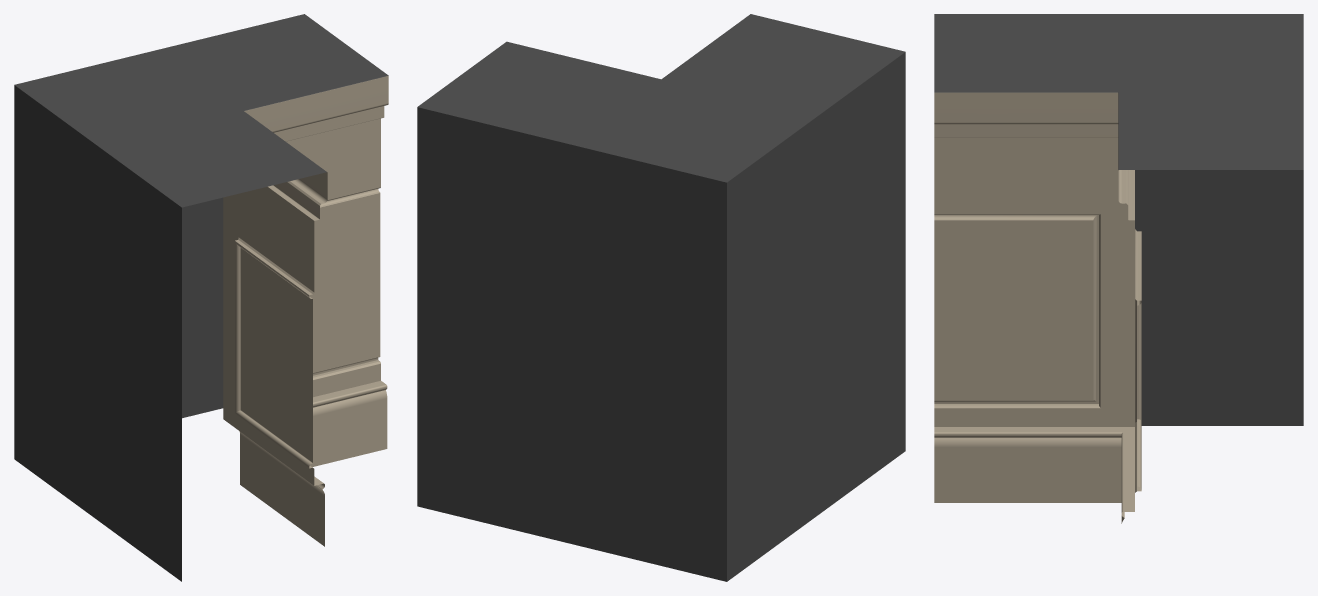
File: Wallset_02.1.02.fbx
The picture shows the model from 3 angles, left to right: view 1: azimuth 30°, elevation 25°; view 2: azimuth 150°, elevation 25°; view 3: azimuth 270°, elevation 25°; orthographic projection. The views are drawn at different scales.
Parts seen in each view (by area): view 1: polySurface13; view 2: polySurface13; view 3: polySurface13.
Part boxes in pixels (left/top/right/bottom): polySurface13: left=14, top=14, right=388, bottom=581; polySurface13: left=417, top=14, right=905, bottom=581; polySurface13: left=934, top=14, right=1303, bottom=523.
Bounding box in the file's own units: 197 × 243 × 197.
